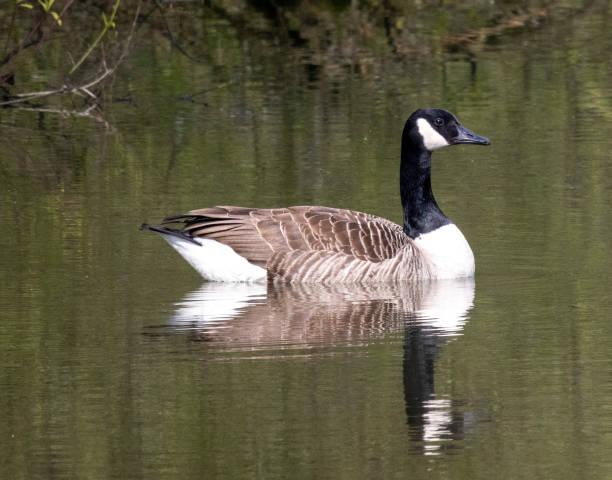Canadian-Goose: (147, 106, 491, 279)
